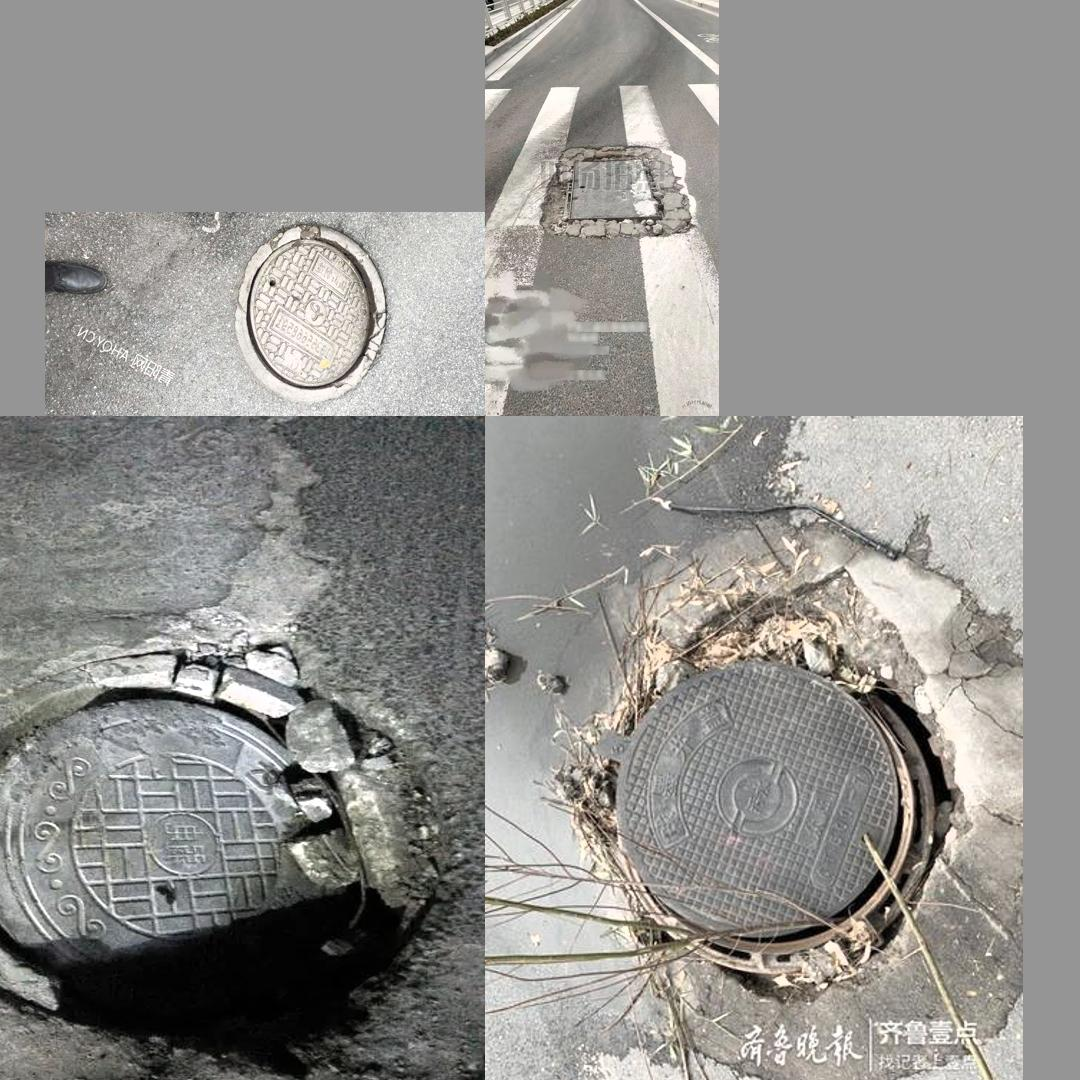circle: (539, 515, 1015, 1080), (0, 649, 462, 1050), (575, 273, 813, 416), (225, 223, 407, 401)
